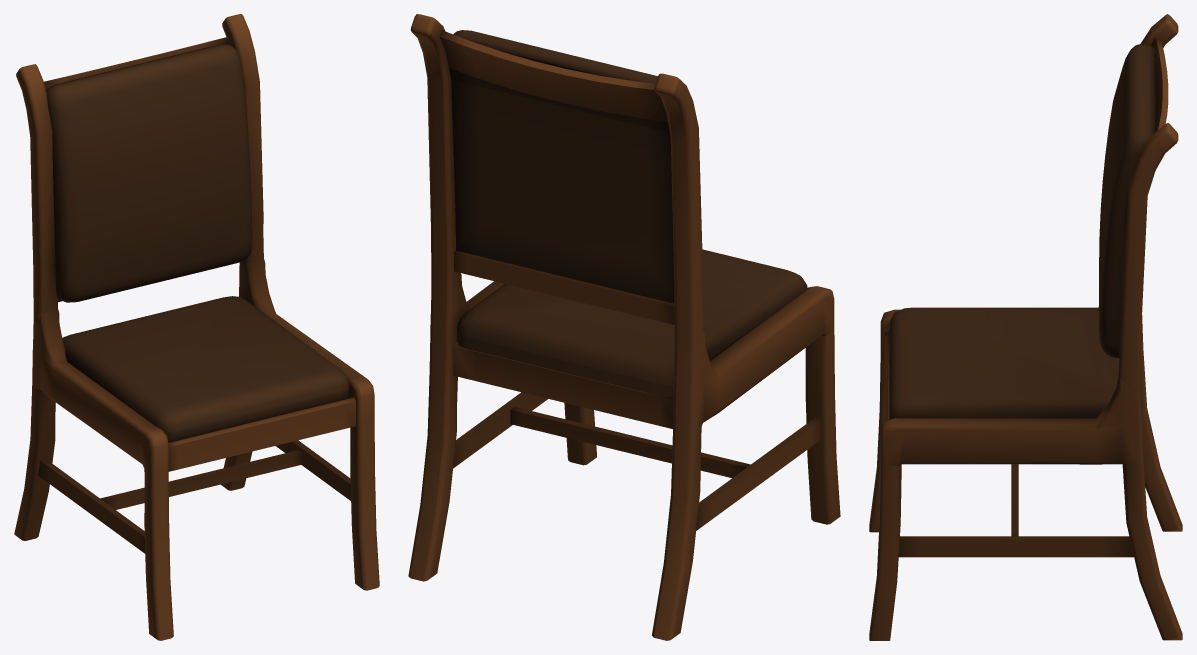
The model's file is DiningChair01.fbx.
3 renders of one model, left to right at view 1: azimuth 30°, elevation 25°; view 2: azimuth 150°, elevation 25°; view 3: azimuth 270°, elevation 25°, orthographic. The views are drawn at different scales.
Parts seen in each view (by area): view 1: DiningChair01 1; view 2: DiningChair01 1; view 3: DiningChair01 1.
Boxes of the visible parts, x1,y1,x2,y2 form: DiningChair01 1: (14,14,379,640); DiningChair01 1: (408,14,840,640); DiningChair01 1: (869,14,1182,640).
Size of the model in its own units: 0.4974 by 1 by 0.5581.
